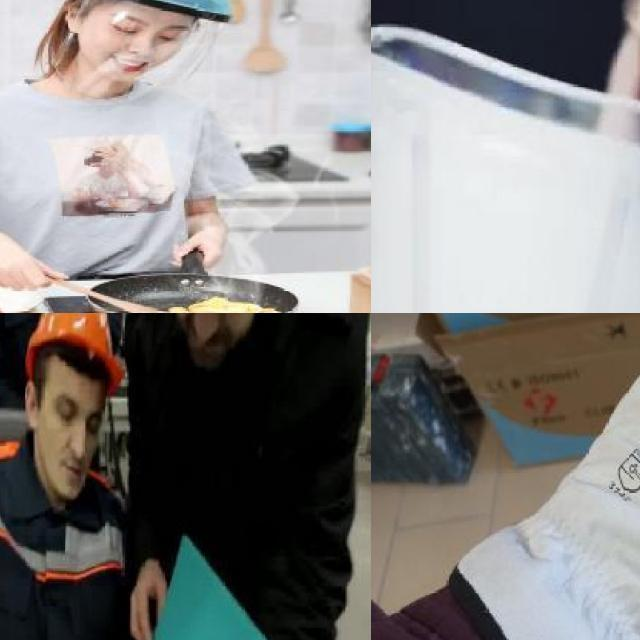apron: (480, 313, 640, 640)
